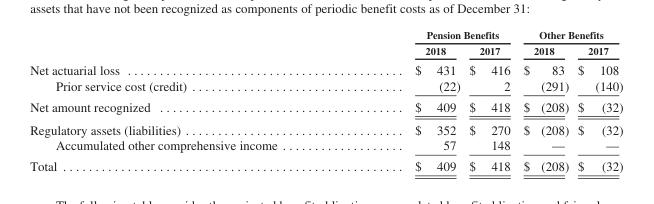table: (29, 28, 622, 172)
table column: (29, 28, 345, 172), (345, 28, 464, 172), (516, 28, 572, 172), (464, 28, 516, 172), (572, 28, 622, 172)
table column header: (29, 28, 622, 59)
table row: (29, 95, 622, 117), (29, 117, 622, 137), (29, 59, 622, 77), (29, 77, 622, 95), (29, 137, 622, 155), (29, 42, 622, 59), (29, 155, 622, 172), (29, 28, 622, 42)
table spanning cell: (345, 28, 516, 42), (516, 28, 622, 42)
